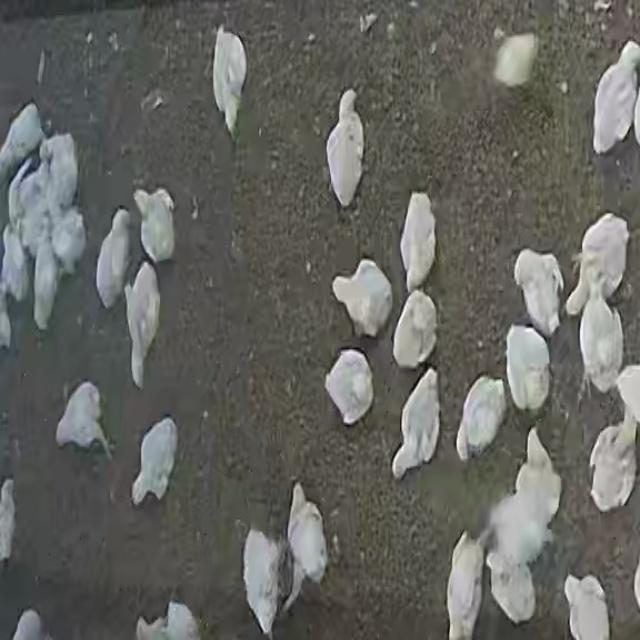chicken: (481, 427, 561, 578), (565, 215, 629, 319), (590, 38, 640, 155), (576, 281, 624, 396), (391, 370, 440, 479), (241, 526, 289, 636), (587, 411, 637, 512), (331, 260, 391, 340), (124, 264, 162, 388), (286, 483, 328, 593), (454, 377, 507, 464), (514, 250, 564, 337), (6, 161, 57, 246), (505, 326, 552, 415), (328, 89, 364, 205), (486, 545, 536, 628), (56, 382, 110, 458), (131, 418, 177, 507), (446, 534, 485, 638), (95, 208, 134, 309), (212, 26, 247, 137), (0, 104, 43, 194), (324, 348, 372, 426), (399, 193, 436, 293), (392, 290, 437, 370), (41, 132, 81, 214), (133, 188, 175, 265), (562, 575, 610, 639), (47, 191, 84, 267), (32, 237, 60, 329), (493, 32, 538, 87), (1, 227, 30, 312)
